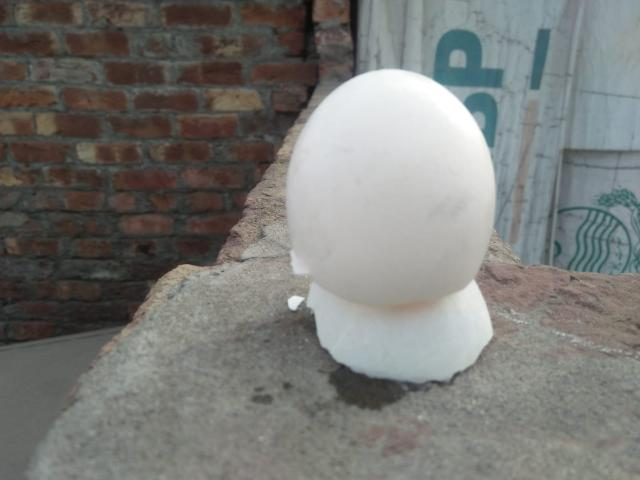Roto: (284, 67, 498, 384)
